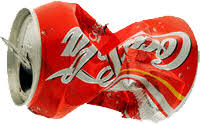can: (4, 3, 196, 118)
